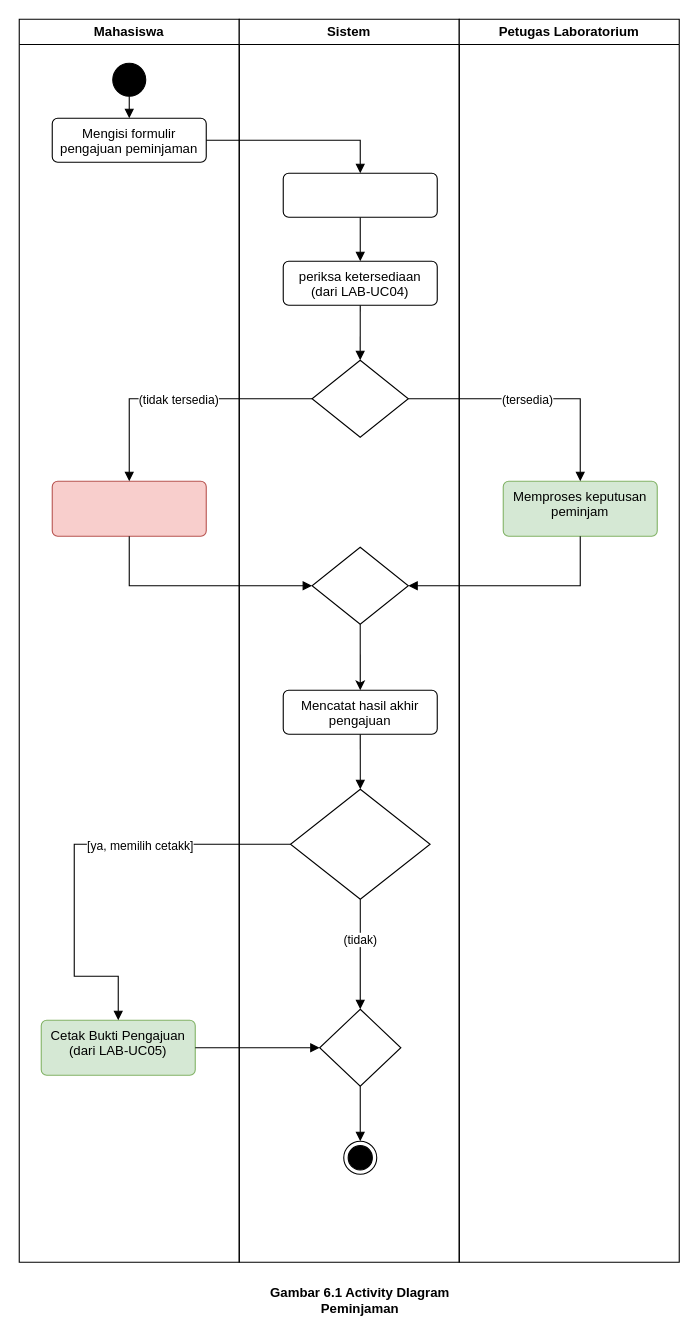
This 699x1337 diagram has some shape labels left out. Here are the shapes that lost their labels. From the top down, the centre of each, then its label:
At pixel 359 194: "Menyimpanan data pengajuan peminjaman".
At pixel 359 398: "peralatan tersedia?".
At pixel 128 508: "Menerima pemberitahuan pengajuan tidak terpenuhi".
At pixel 359 843: "Mahasiswa memilih cetak bukti?".
